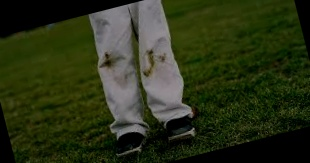earth: (100, 50, 115, 70), (147, 49, 157, 66), (143, 69, 152, 77)
